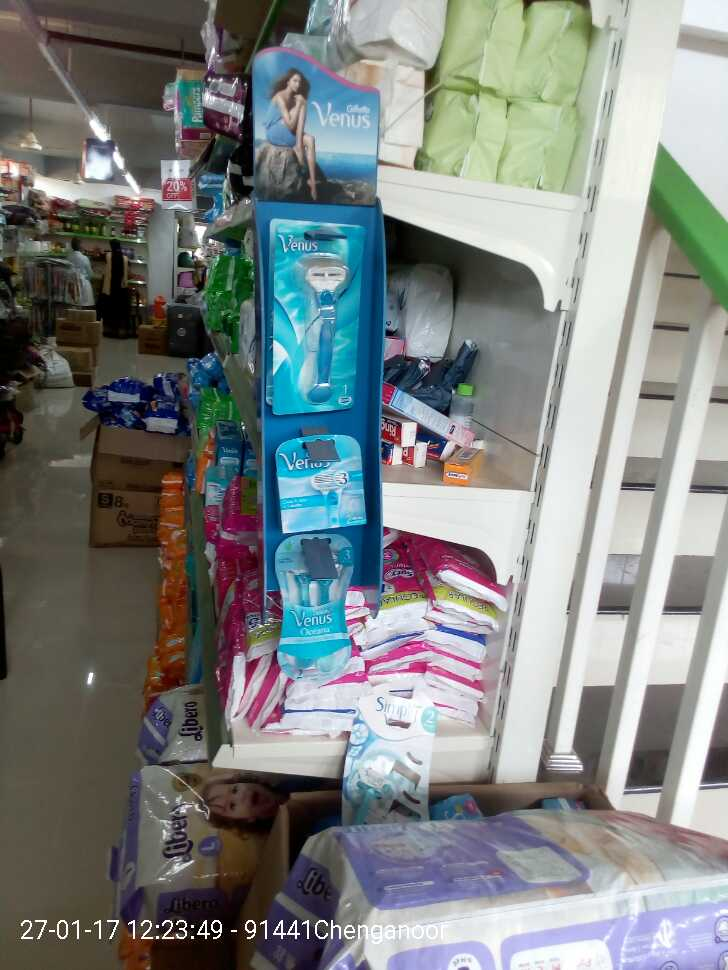beauty: (266, 215, 369, 423), (266, 532, 357, 685), (276, 440, 370, 529)
